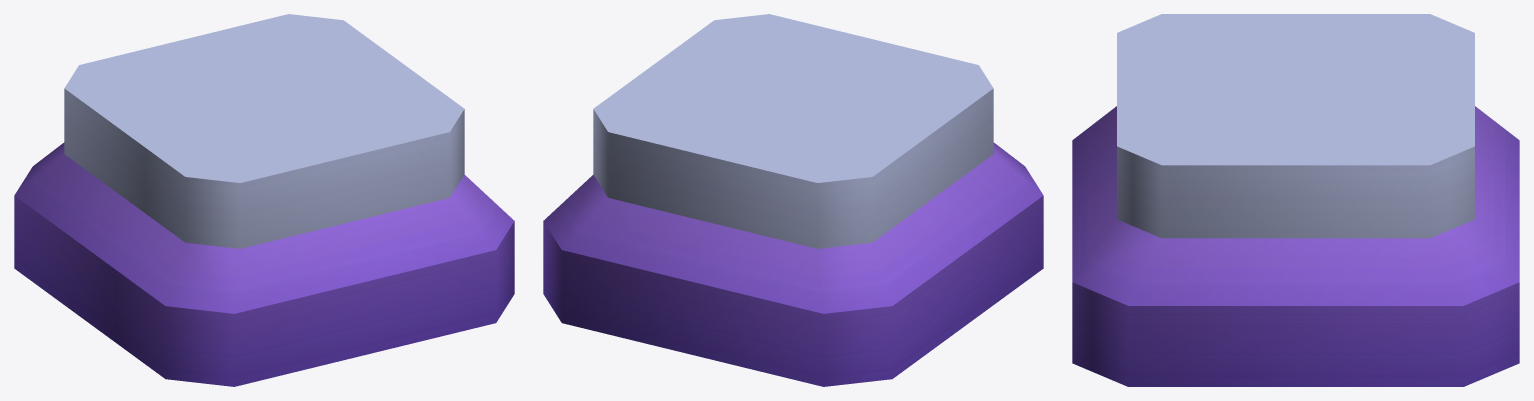
File: kenney-tower-defense-tower-square-bottom-a.glb
3 views of the same model, side by side, from view 1: azimuth 30°, elevation 25°; view 2: azimuth 150°, elevation 25°; view 3: azimuth 270°, elevation 25° (orthographic). The views are drawn at different scales.
Visible parts, largest first — view 1: tower-square-bottom-a; view 2: tower-square-bottom-a; view 3: tower-square-bottom-a.
Part boxes in pixels (x1,y1,x2,y2): tower-square-bottom-a: (14, 14, 514, 386); tower-square-bottom-a: (543, 14, 1043, 386); tower-square-bottom-a: (1072, 14, 1519, 386).
Bounding box in the file's own units: 1 × 0.5001 × 1.
Materials: 1 (1 with a texture image).
